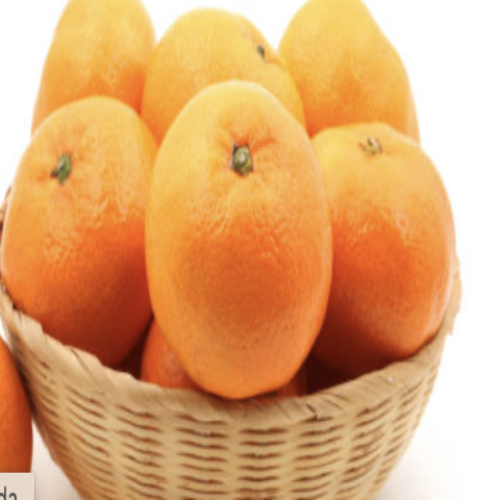orange: (139, 70, 344, 397), (279, 102, 495, 369), (3, 73, 167, 398)
